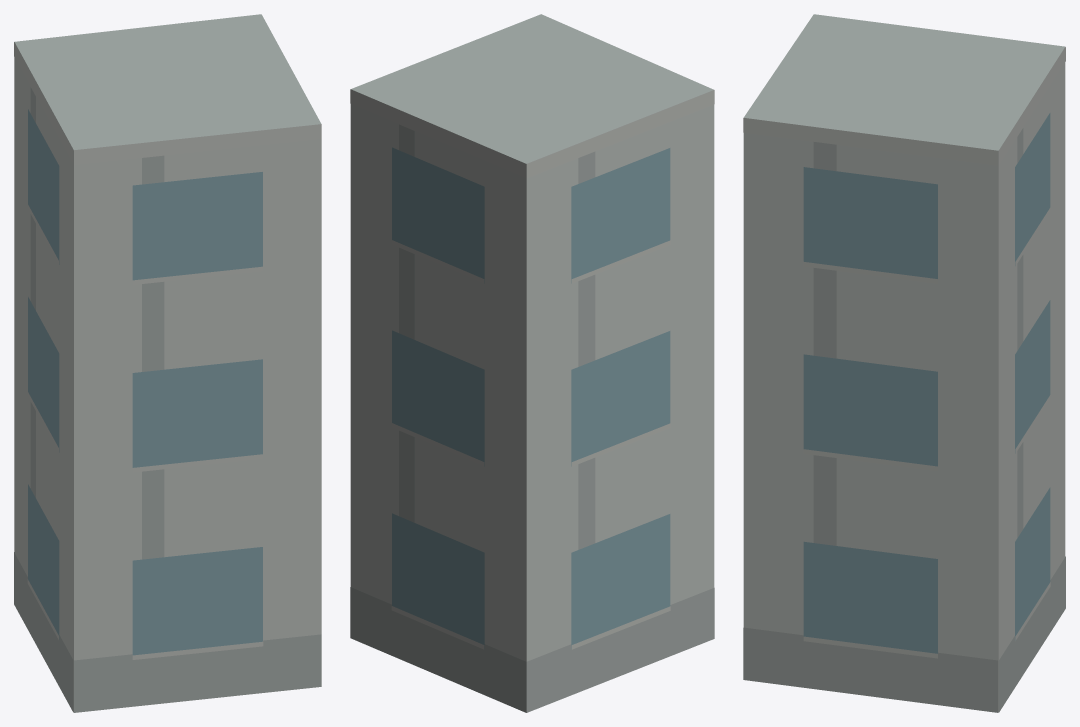
Rendered from survey-upis-32745701.glb.
3 views of the same model, side by side, from view 1: azimuth 30°, elevation 25°; view 2: azimuth 150°, elevation 25°; view 3: azimuth 270°, elevation 25° (orthographic). The views are drawn at different scales.
Visible parts, largest first — view 1: survey-upis-32745701.tmp; view 2: survey-upis-32745701.tmp; view 3: survey-upis-32745701.tmp.
Part boxes in pixels (x1,y1,x2,y2): survey-upis-32745701.tmp: [14, 14, 321, 712]; survey-upis-32745701.tmp: [350, 14, 714, 712]; survey-upis-32745701.tmp: [743, 14, 1065, 712].
Size of the model in its own units: 4.78 by 9.15 by 4.76.
